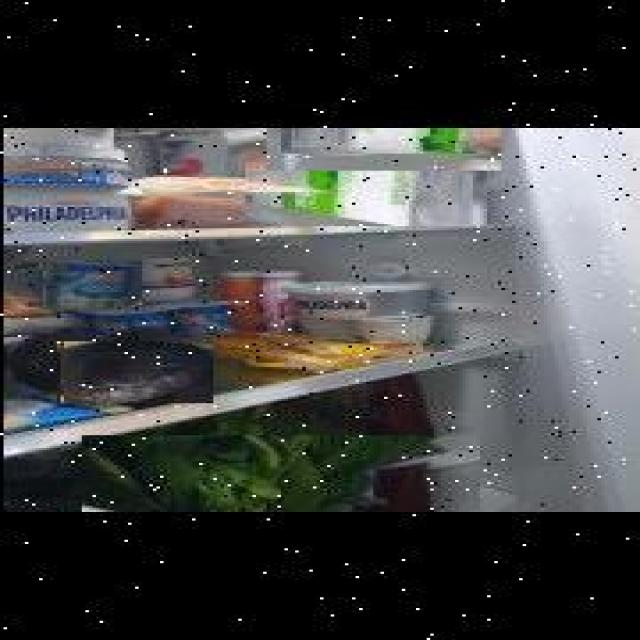avocado: (57, 342, 210, 404)
milk: (245, 145, 487, 226)
pak_choi: (79, 435, 476, 512)
sausage: (263, 128, 498, 171)
yogurt: (39, 258, 139, 309), (135, 257, 199, 302)
